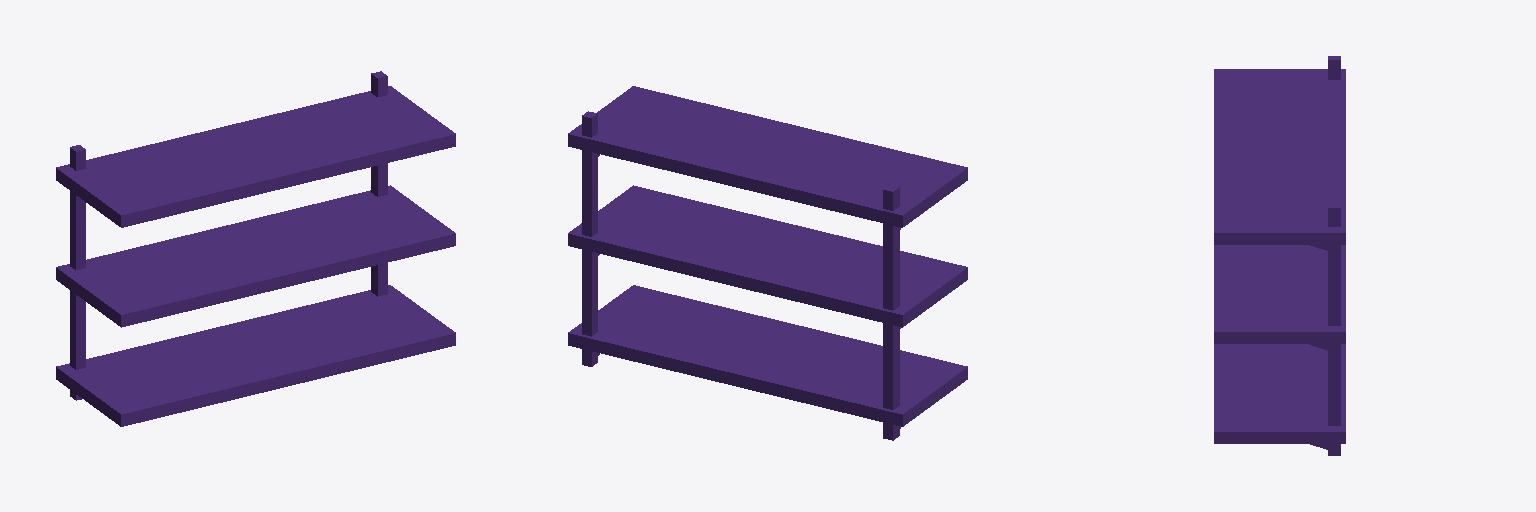
The picture shows the model from 3 angles: view 1: azimuth 30°, elevation 25°; view 2: azimuth 150°, elevation 25°; view 3: azimuth 270°, elevation 25°; orthographic projection.
Visible parts, largest first — view 1: Cube.015_Cube.022; view 2: Cube.015_Cube.022; view 3: Cube.015_Cube.022.
Part boxes in pixels (left/top/right/bottom): Cube.015_Cube.022: left=56, top=71, right=455, bottom=426; Cube.015_Cube.022: left=568, top=86, right=967, bottom=440; Cube.015_Cube.022: left=1214, top=56, right=1345, bottom=455.
Size of the model in its own units: 11.57 by 8.22 by 3.93.
Materials: 1 (1 with a texture image).